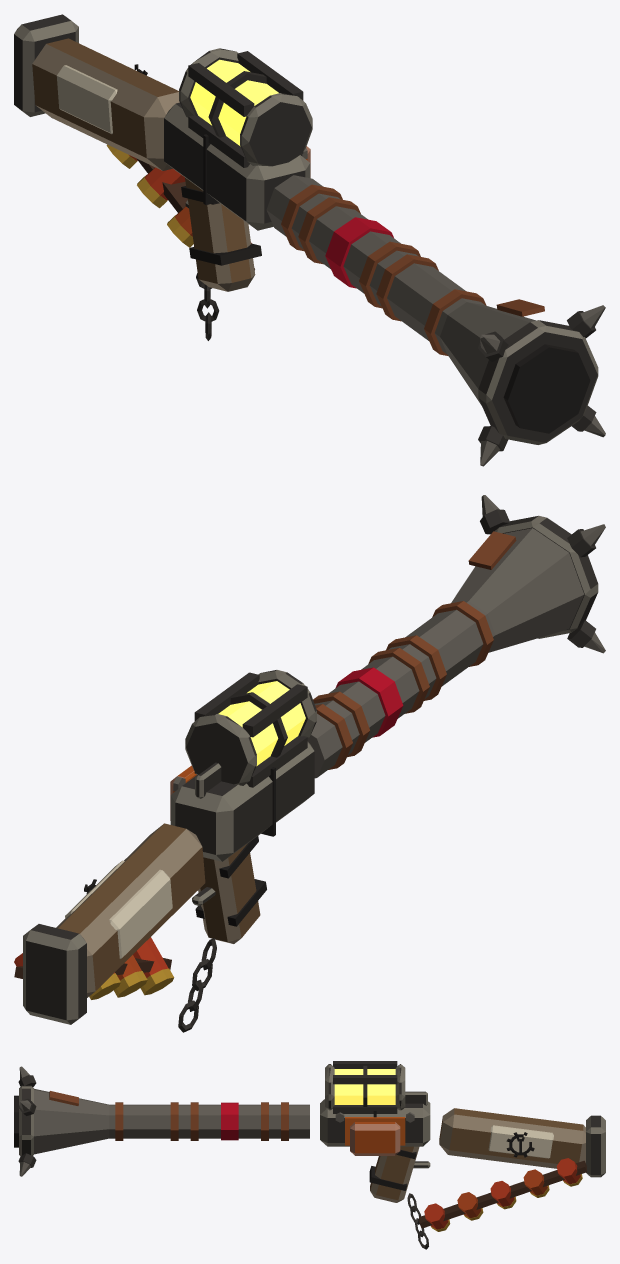
File: w_brute_blunderbuss.glb
3 views of the same model, one above another, from view 1: azimuth 30°, elevation 25°; view 2: azimuth 150°, elevation 25°; view 3: azimuth 270°, elevation 25° (orthographic). The views are drawn at different scales.
Parts seen in each view (by area): view 1: w_brute_blunderbuss; view 2: w_brute_blunderbuss; view 3: w_brute_blunderbuss.
Boxes of the visible parts, box(x1,y1,x2,y2) form: w_brute_blunderbuss: box(14, 14, 605, 466); w_brute_blunderbuss: box(14, 495, 605, 1032); w_brute_blunderbuss: box(14, 1061, 605, 1249).
Size of the model in its own units: 0.1757 by 0.3946 by 1.18.
